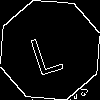L: (25, 25, 65, 76)
